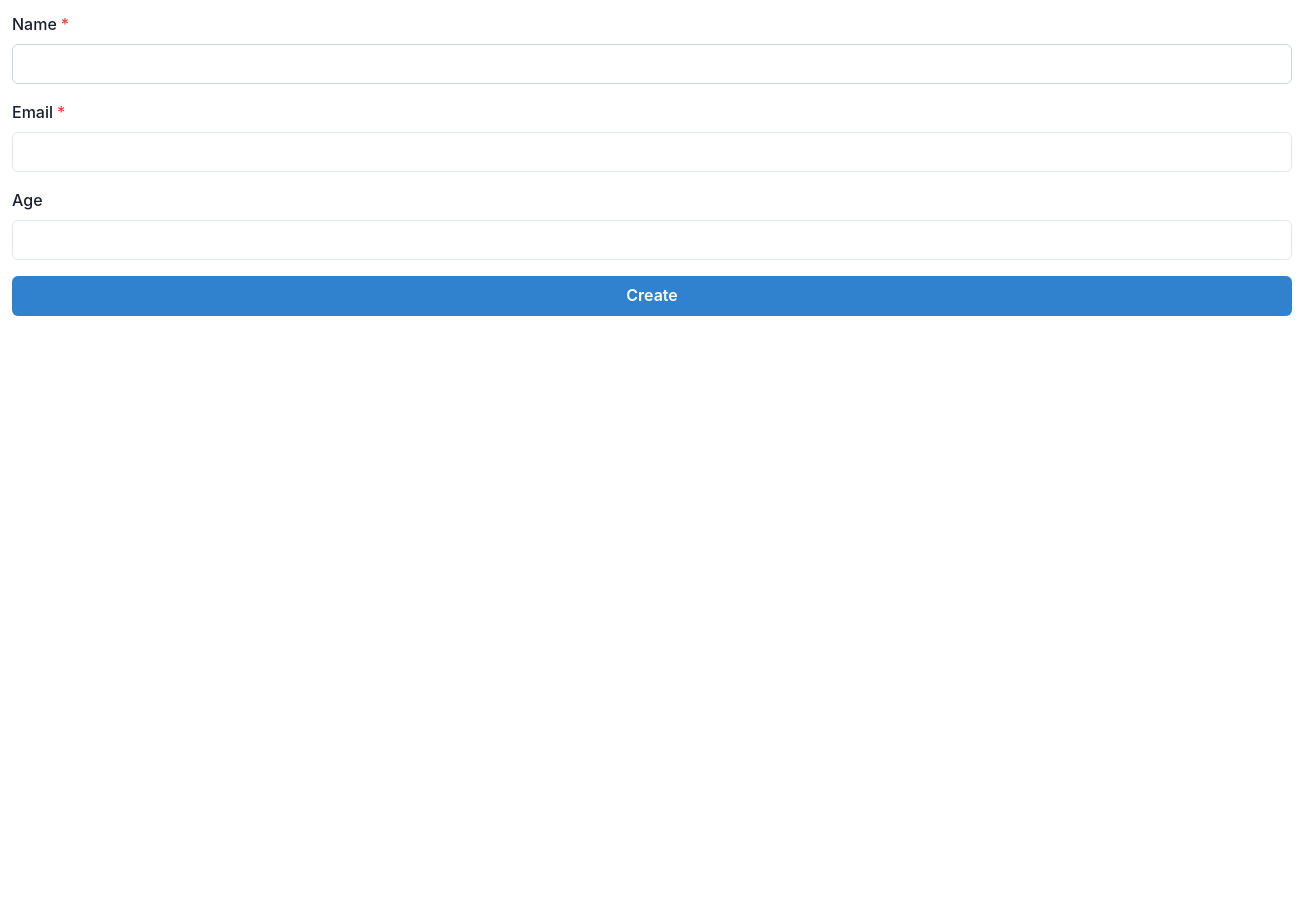
CRUDForm › handles submission errors
The width and height of the screenshot is (1304, 912).
Type "John Doe" into the field labelled "Name" at point(652, 64), box 12,44 -> 1292,84
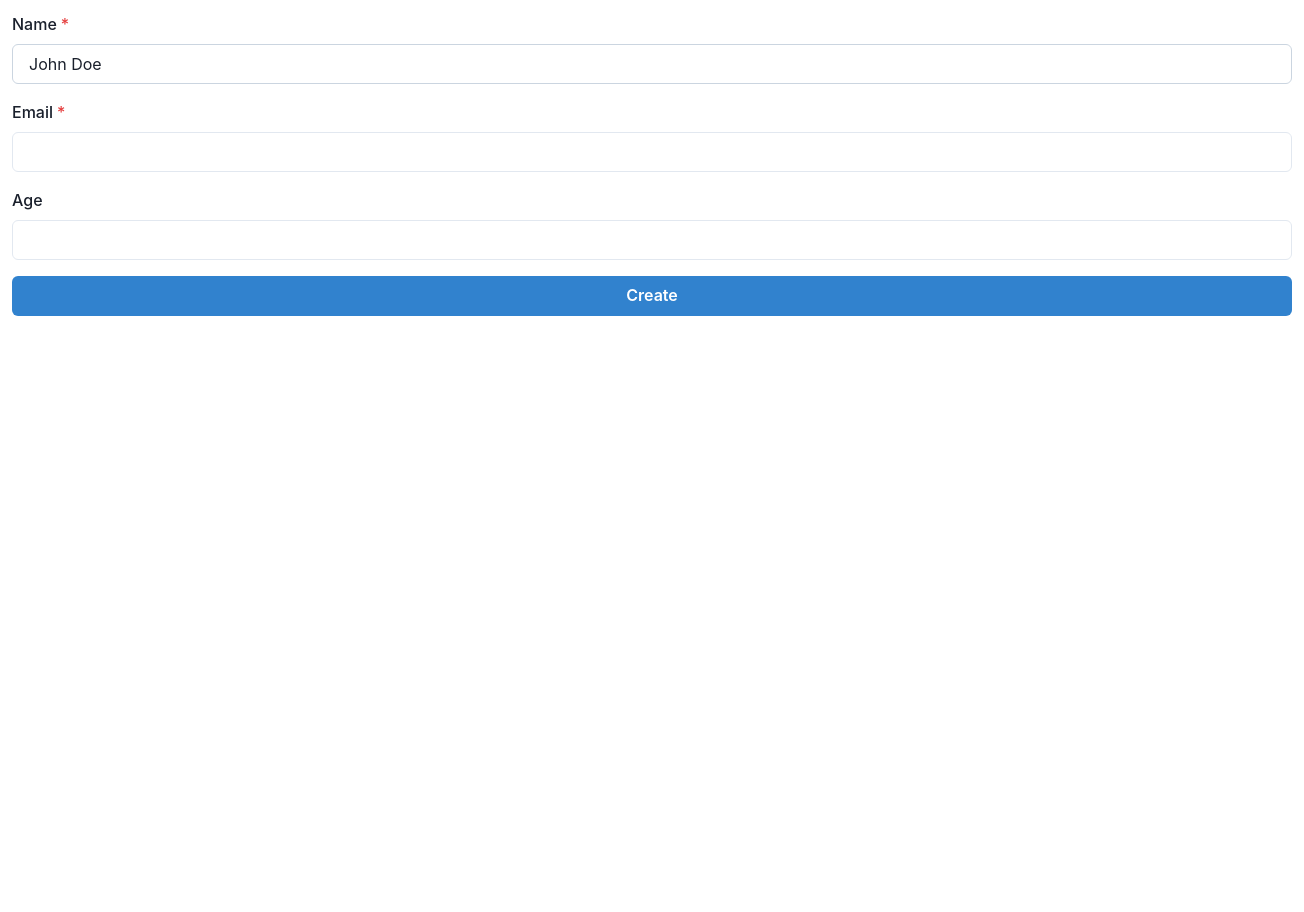
Type "john@example.com" into the field labelled "Email" at point(652, 152), box 12,132 -> 1292,172
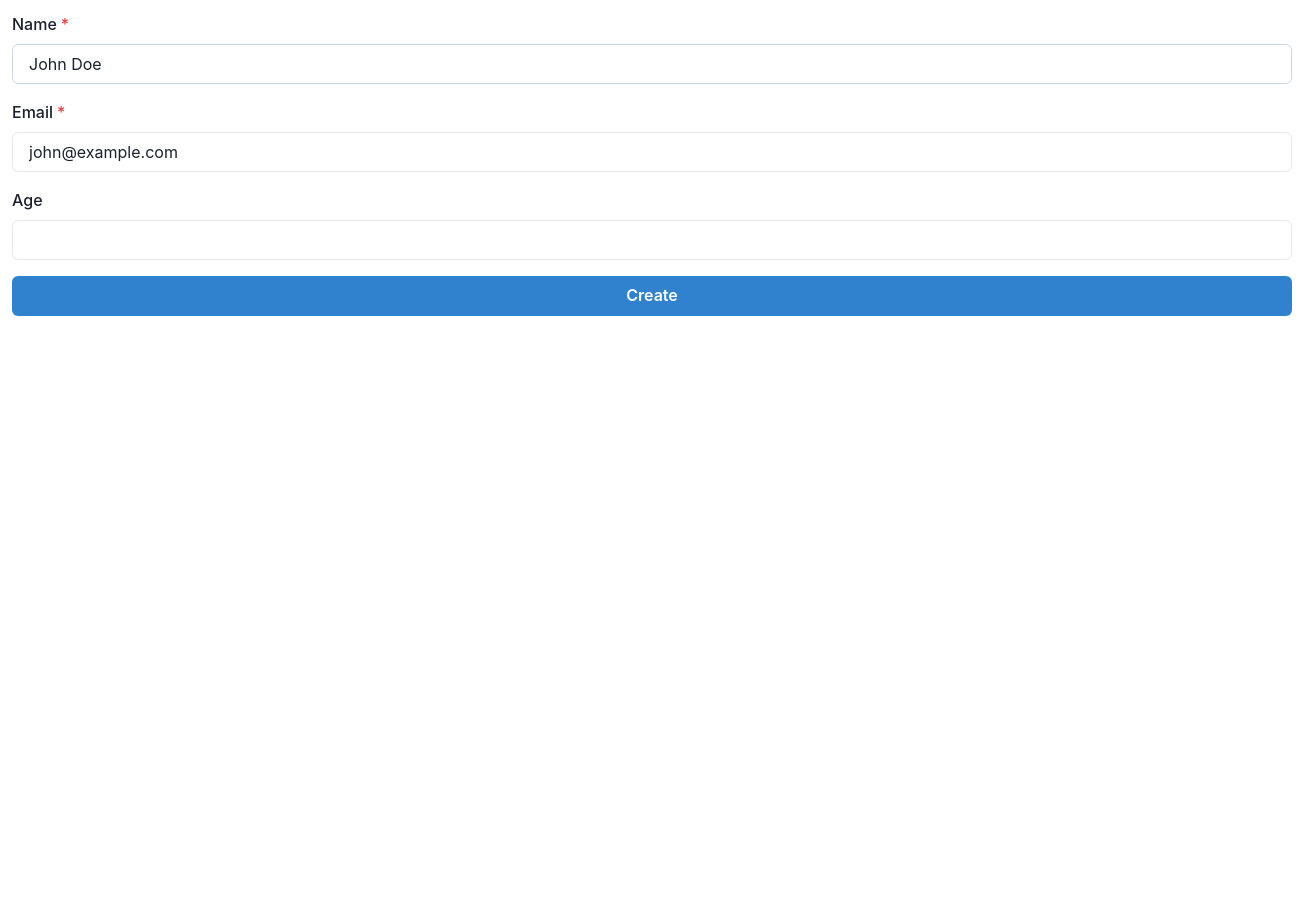
Submit the form, box 12,12 -> 1292,316
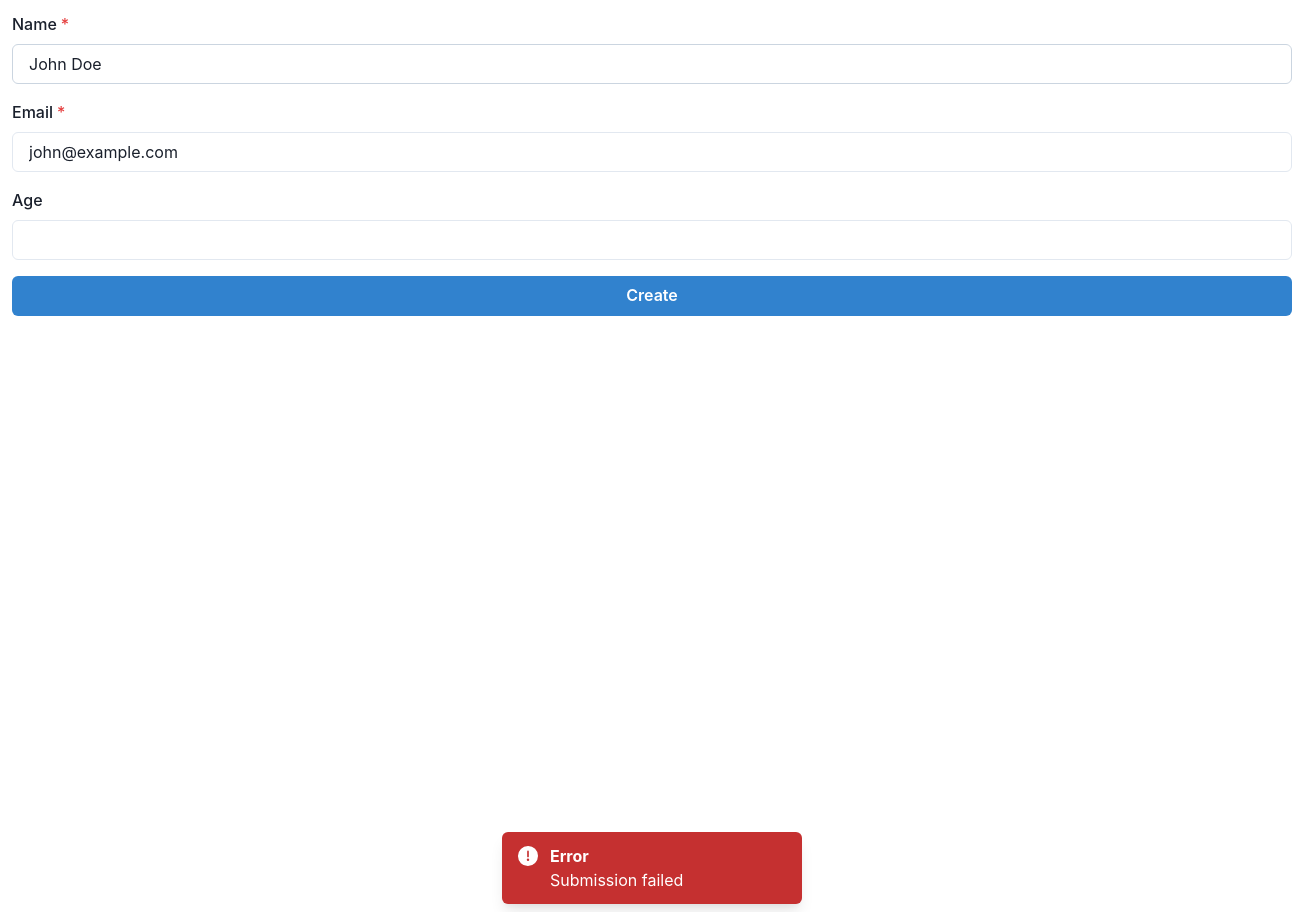
Expected: the text "Error" is shown, 550,846 -> 589,866
Expected: the text "Submission failed" is shown, 550,870 -> 683,890
